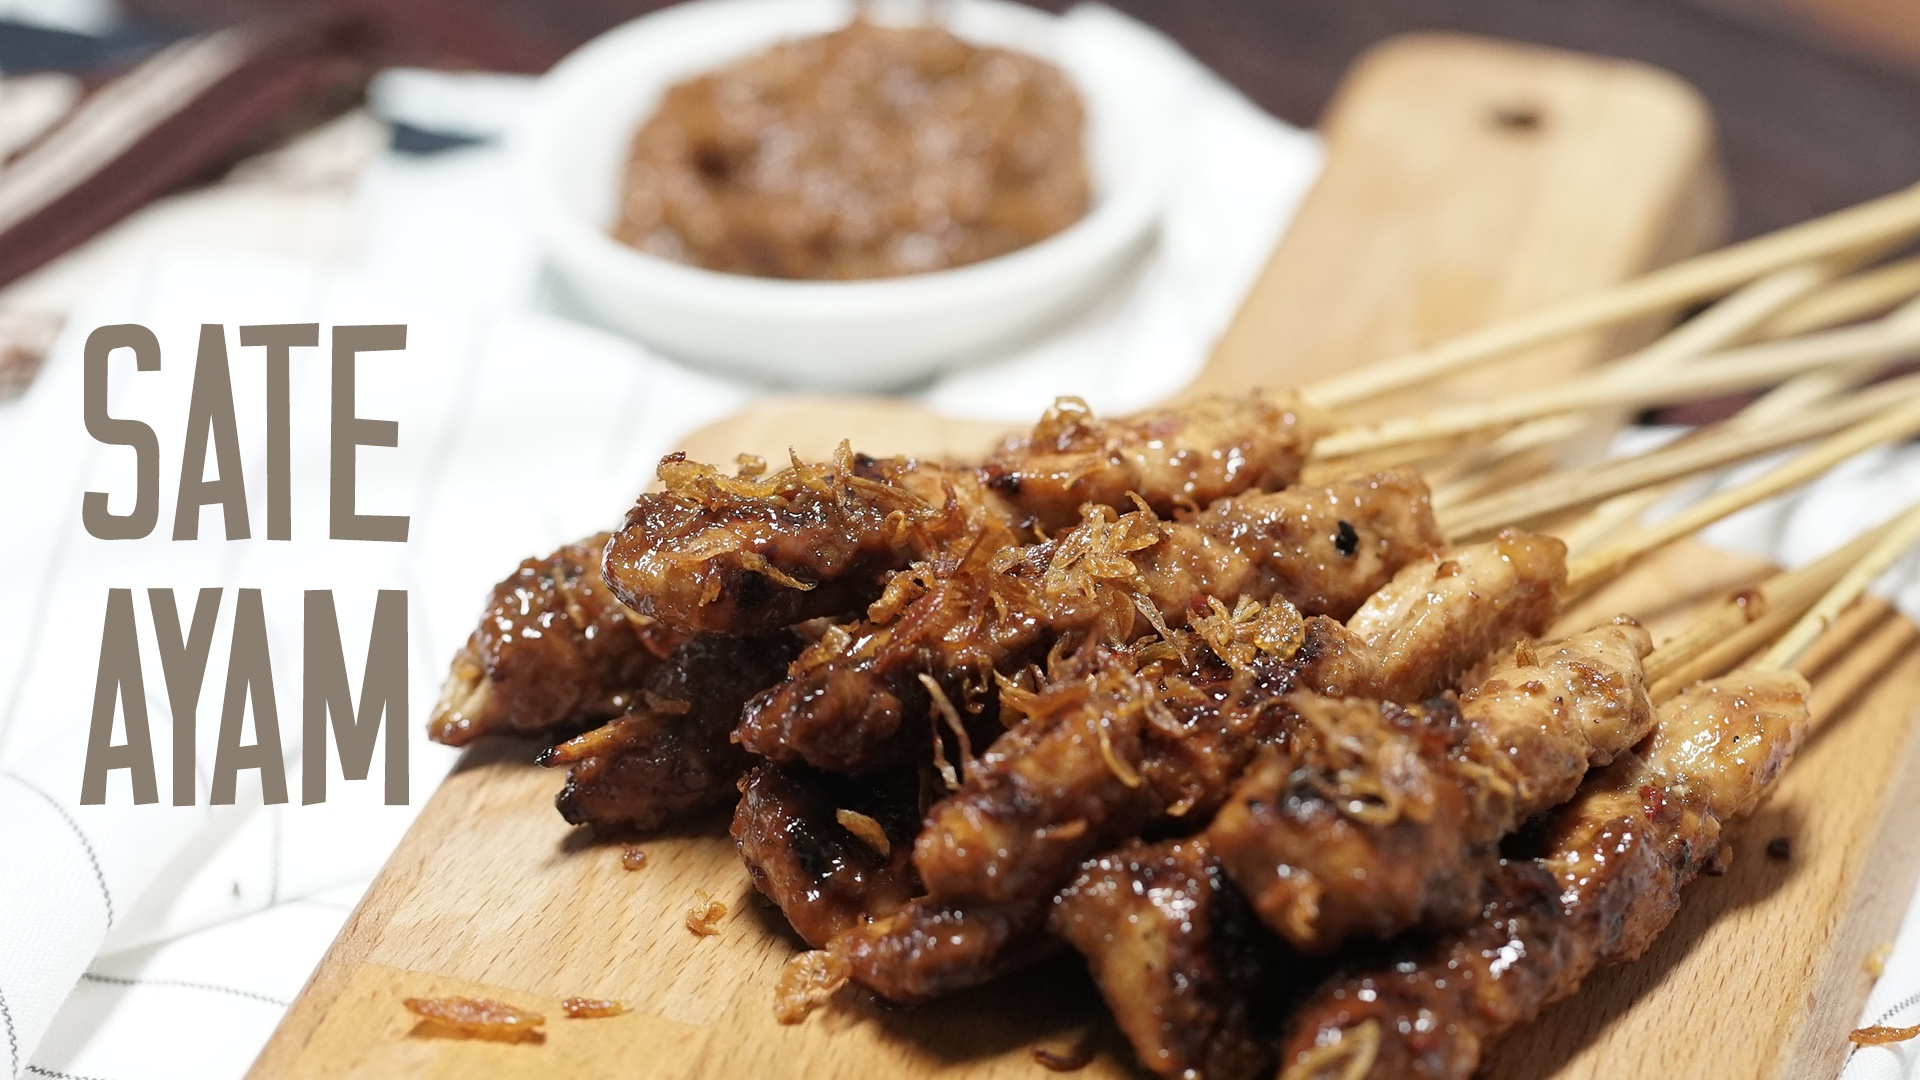sate: (415, 369, 1816, 1080)
